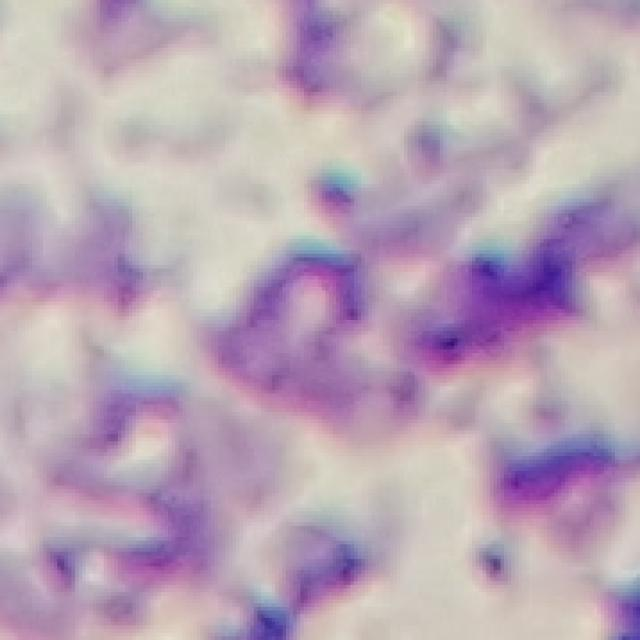non-sperm: (217, 232, 586, 440)
